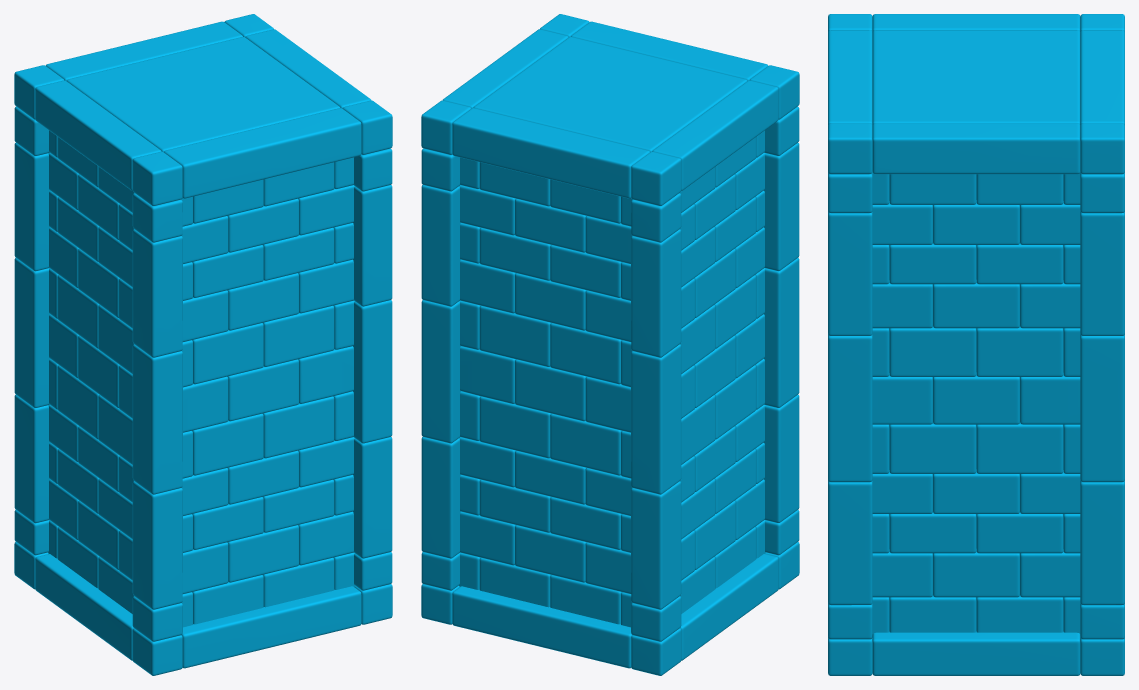
File: SM_Stone_Body_07.fbx
3 renders of one model, left to right at view 1: azimuth 30°, elevation 25°; view 2: azimuth 150°, elevation 25°; view 3: azimuth 270°, elevation 25°, orthographic. The views are drawn at different scales.
Visible parts, largest first — view 1: SM_Stone_Body_07; view 2: SM_Stone_Body_07; view 3: SM_Stone_Body_07.
Part boxes in pixels (x1,y1,x2,y2): SM_Stone_Body_07: [14, 14, 392, 675]; SM_Stone_Body_07: [421, 14, 799, 675]; SM_Stone_Body_07: [828, 14, 1124, 675].
Size of the model in its own units: 2.5 by 5 by 2.5.
